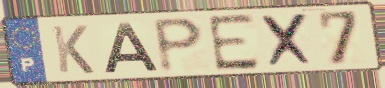7: (317, 9, 363, 67)
A: (101, 20, 161, 75)
E: (204, 11, 262, 74)
K: (49, 24, 97, 76)
P: (151, 16, 207, 76)
X: (258, 11, 317, 70)
